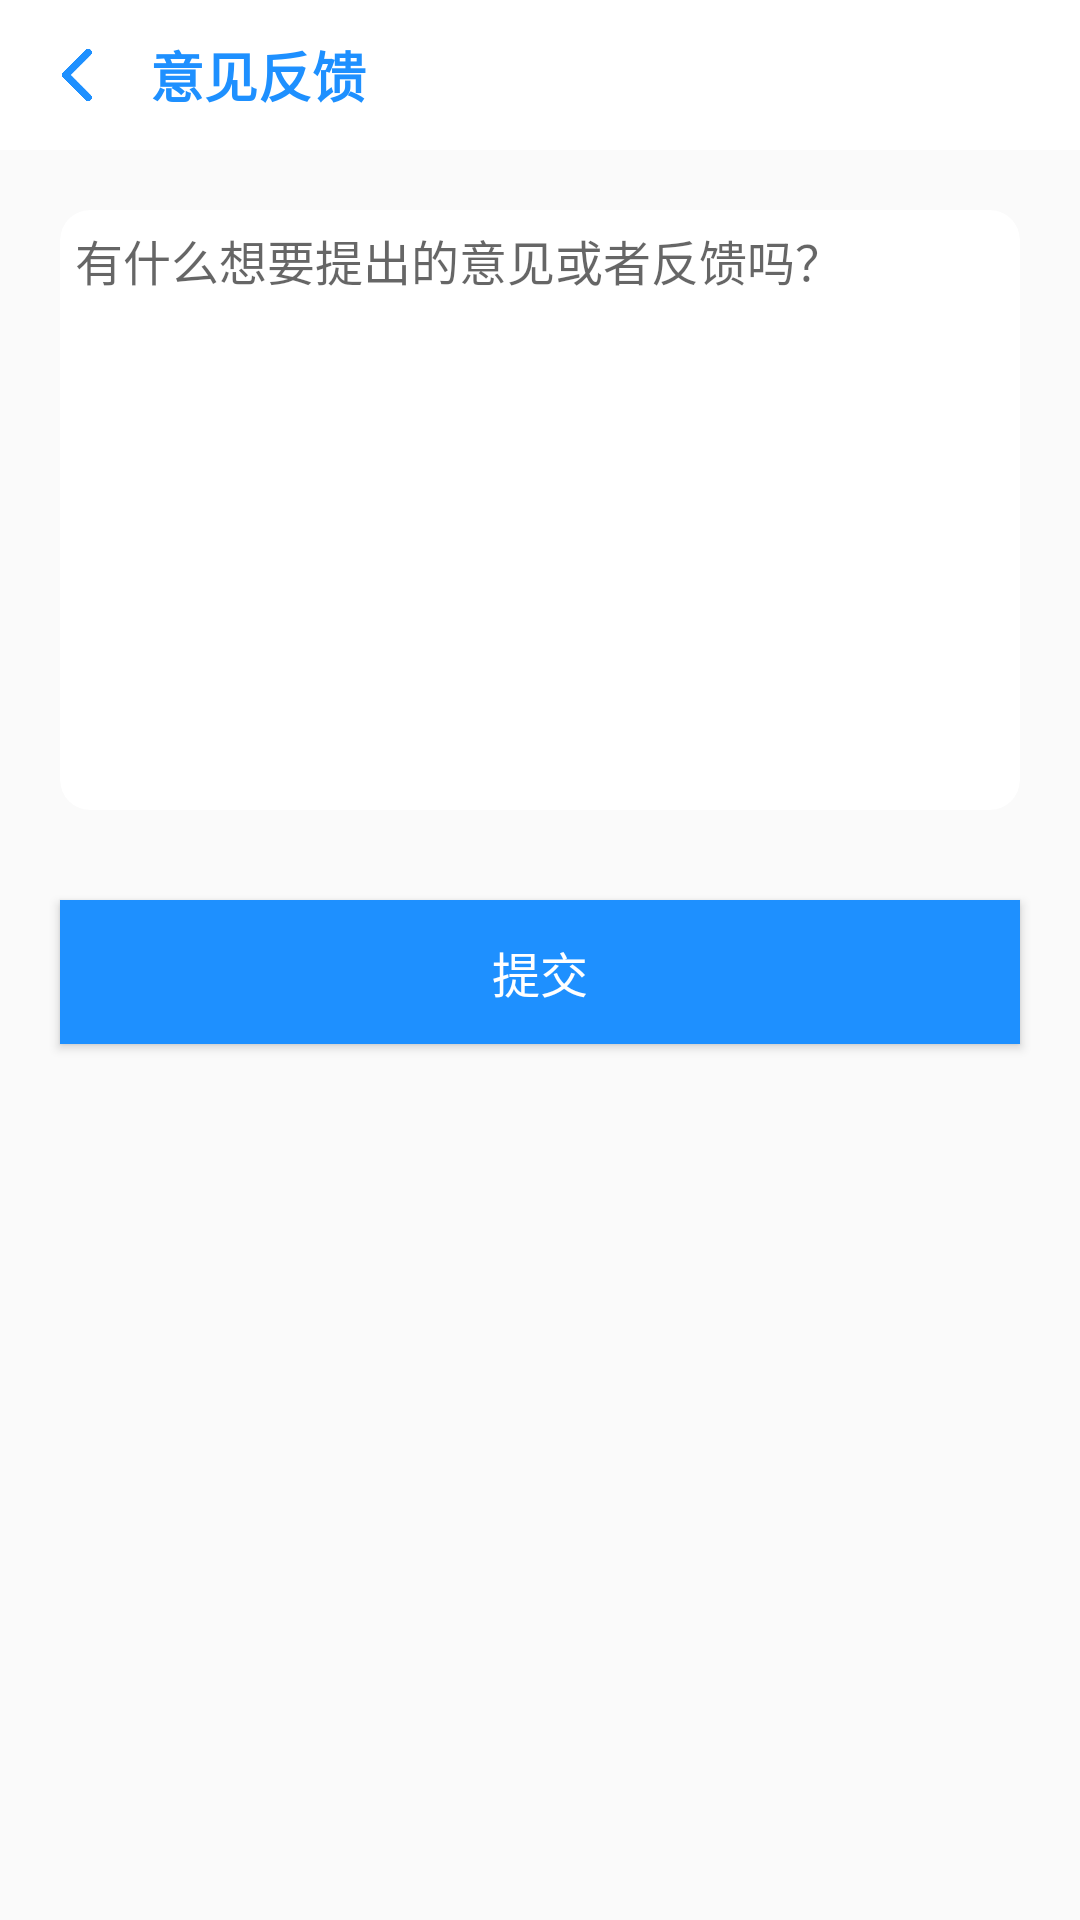

Where icons sit on this 1080px x 1920px app screen, as [left=x1, top=y1, right=x2, bottom=y2]:
left: [left=62, top=49, right=92, bottom=101]
